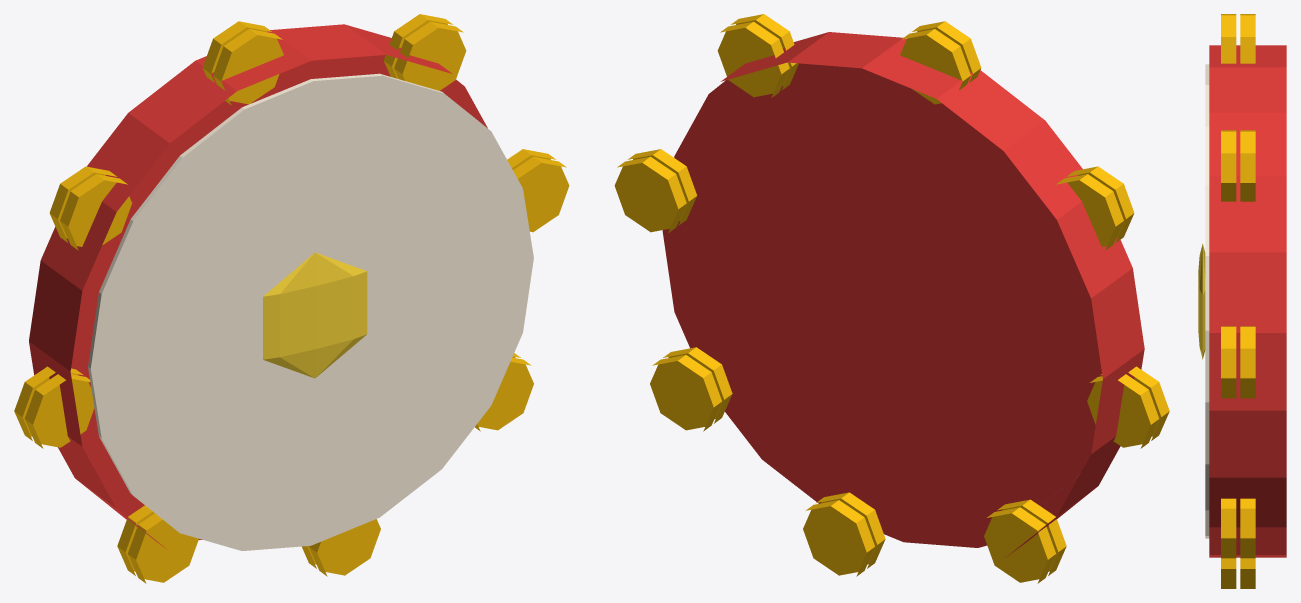
Rendered from tamburin.glb.
3 renders of one model, left to right at view 1: azimuth 30°, elevation 25°; view 2: azimuth 150°, elevation 25°; view 3: azimuth 270°, elevation 25°, orthographic. The views are drawn at different scales.
Parts seen in each view (by area): view 1: tamburin; view 2: tamburin; view 3: tamburin.
Boxes of the visible parts, x1,y1,x2,y2 form: tamburin: [14, 14, 569, 583]; tamburin: [614, 14, 1169, 583]; tamburin: [1198, 14, 1286, 588].
Bounding box in the file's own units: 0.452 × 0.452 × 0.0685.
